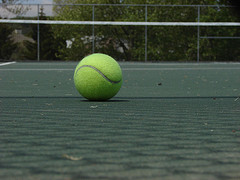tennis ball: (72, 52, 124, 102)
